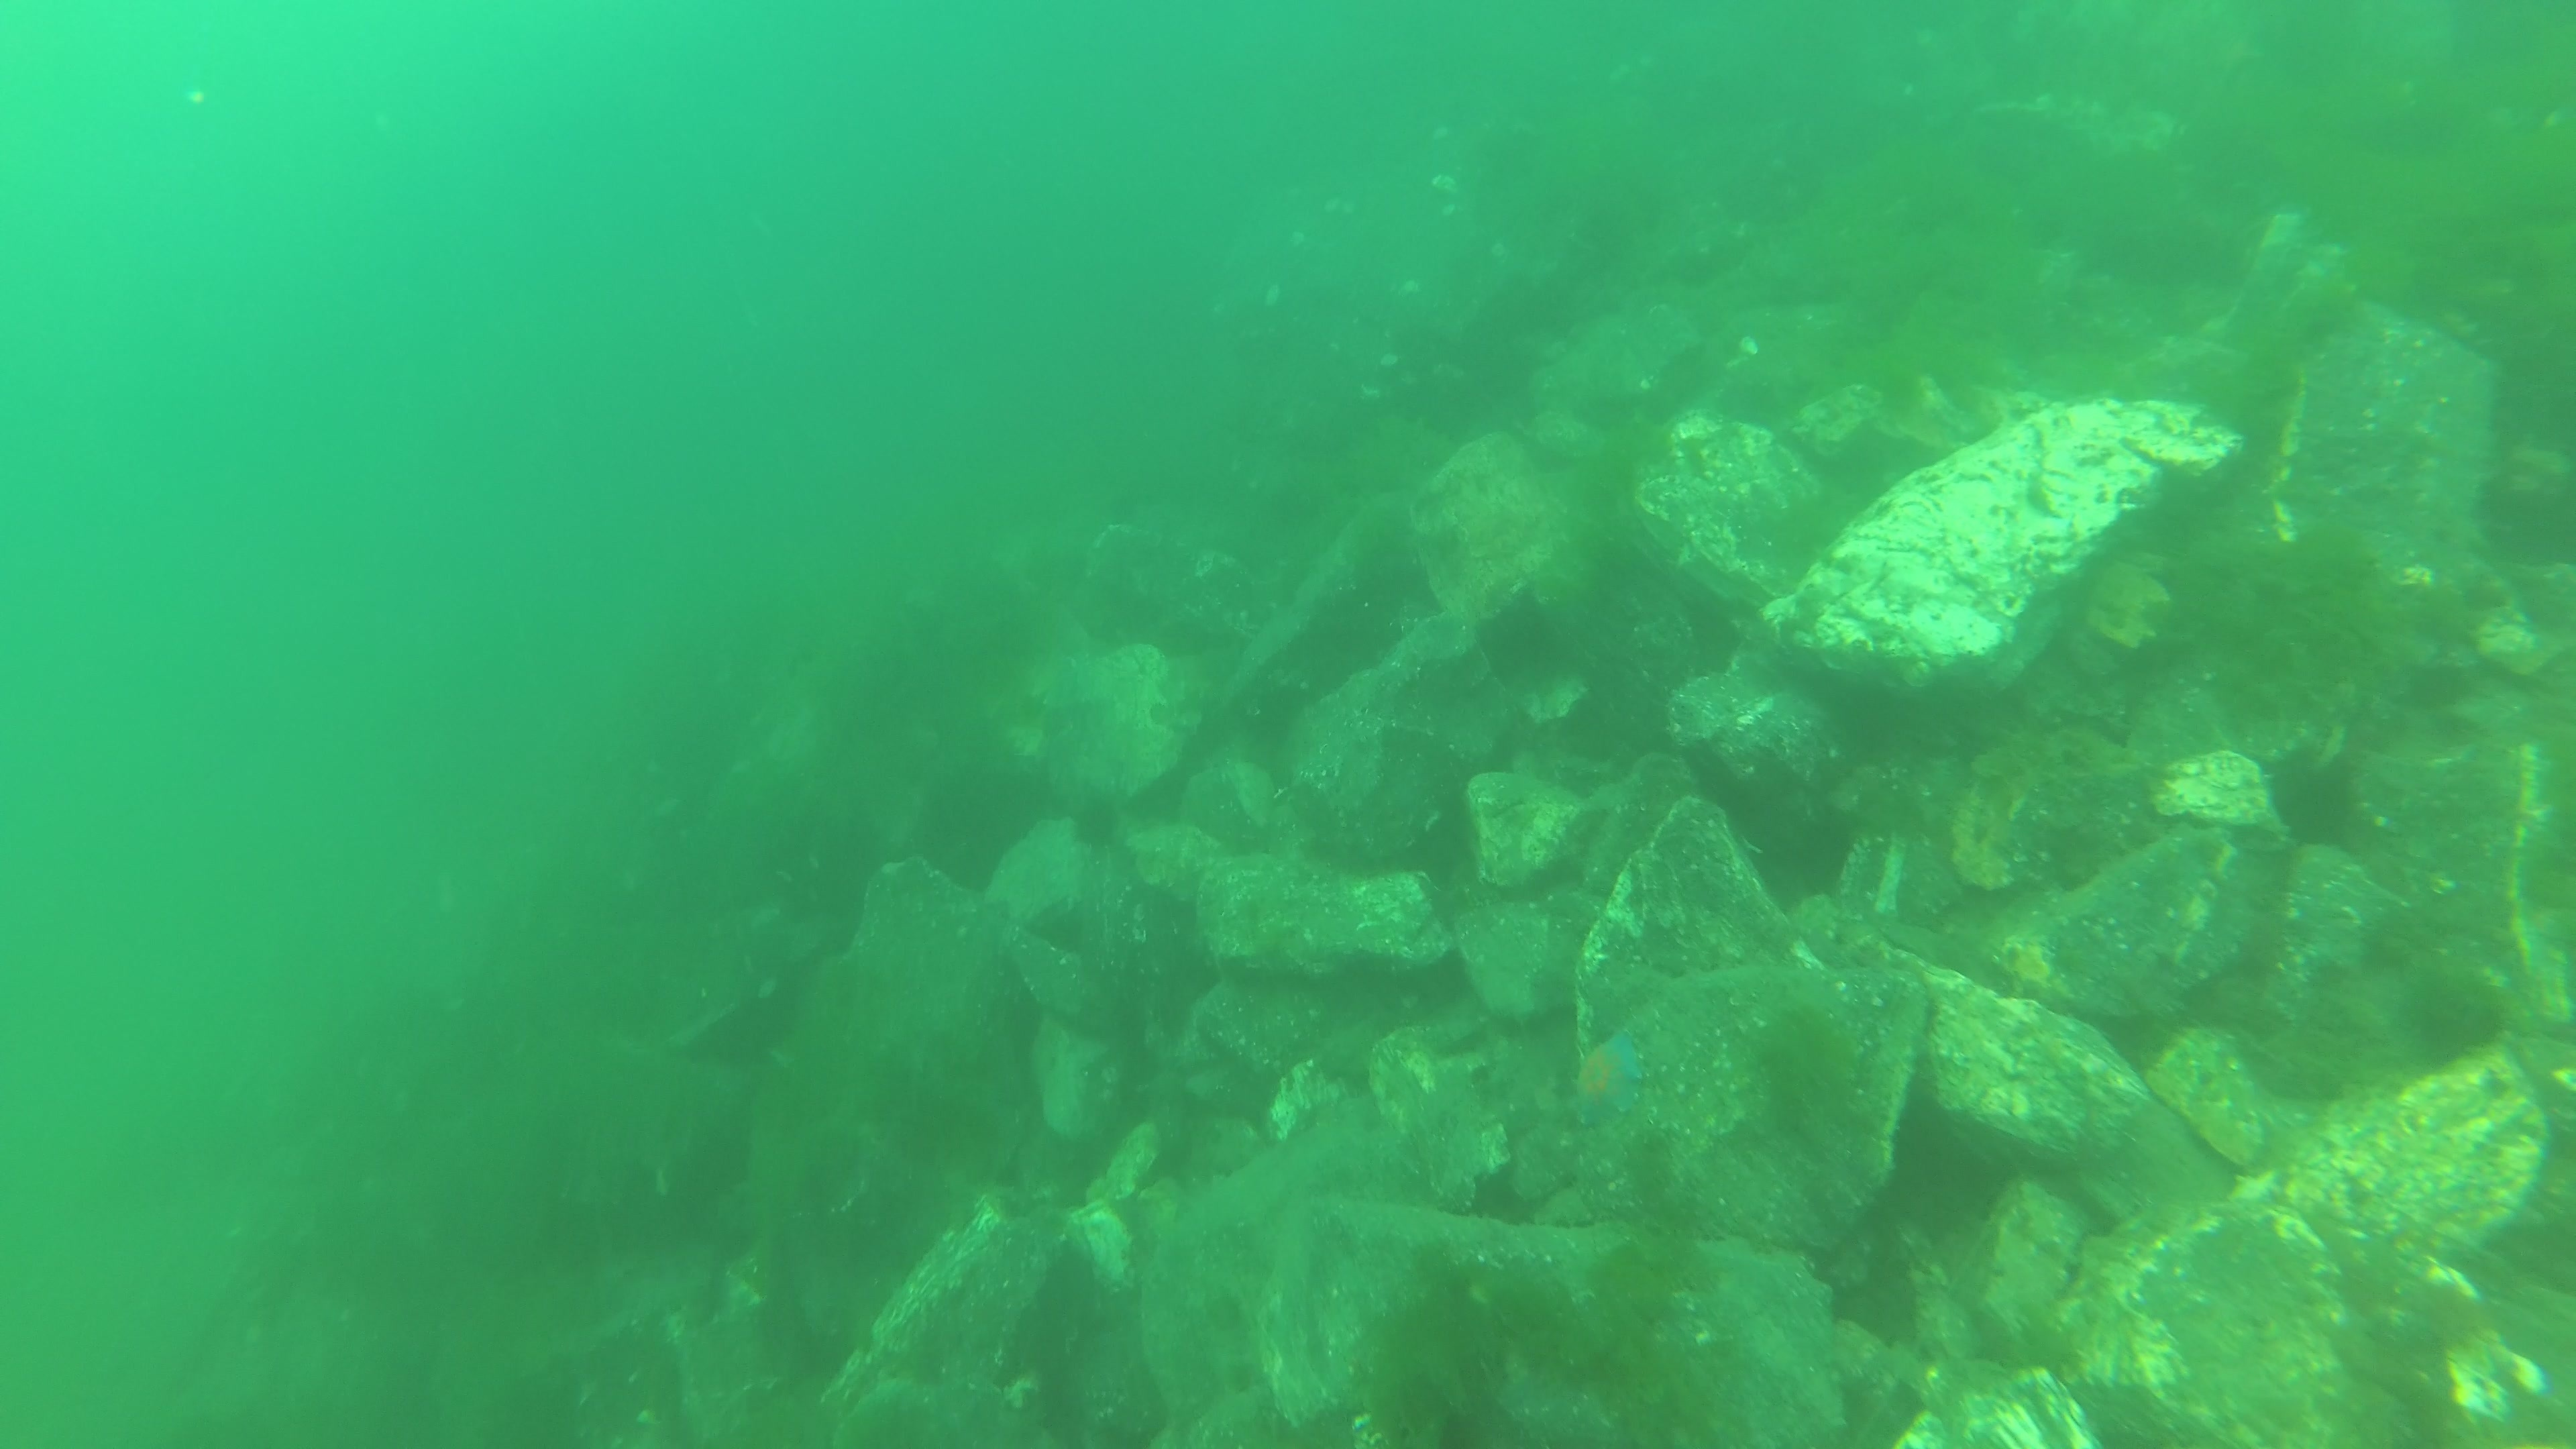echinus: (1067, 796, 1118, 849)
starfish: (1576, 1024, 1640, 1120)
